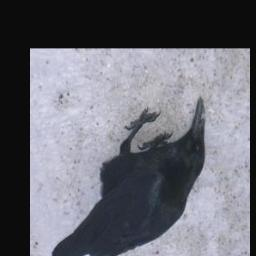Crow: (46, 98, 204, 256)
